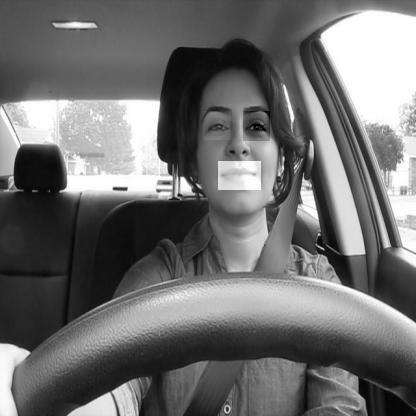seatbelt: (168, 35, 302, 416)
